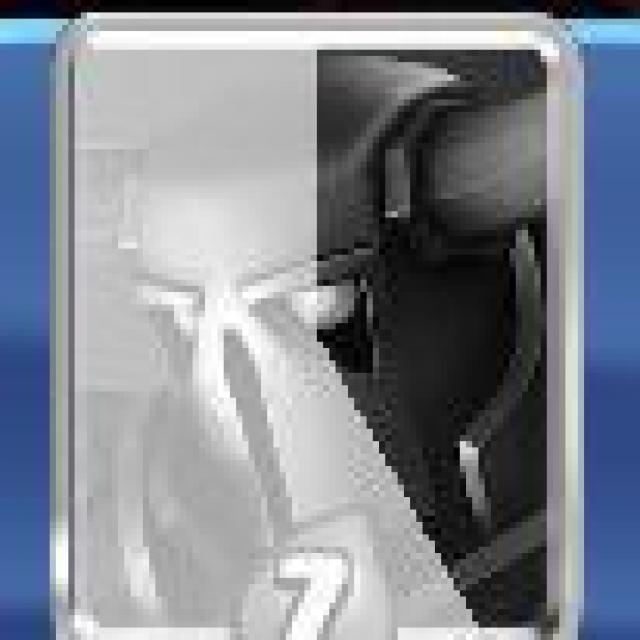Pekka: (46, 19, 586, 640)
